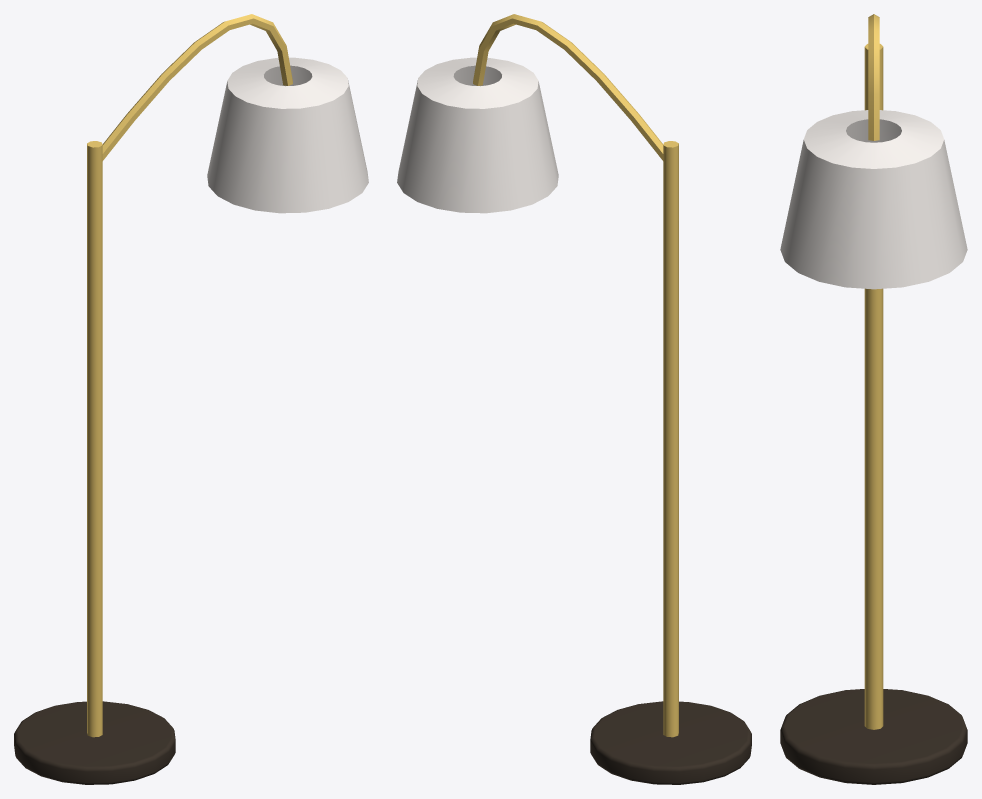
Rendered from floor_lamp_arc.glb.
3 renders of one model, left to right at view 1: azimuth 30°, elevation 25°; view 2: azimuth 150°, elevation 25°; view 3: azimuth 270°, elevation 25°, orthographic. The views are drawn at different scales.
Parts seen in each view (by area): view 1: floor_lamp_arc; view 2: floor_lamp_arc; view 3: floor_lamp_arc.
Part boxes in pixels (bbox=[...]): floor_lamp_arc: bbox=[14, 14, 368, 784]; floor_lamp_arc: bbox=[397, 14, 751, 784]; floor_lamp_arc: bbox=[780, 14, 967, 784].
Bounding box in the file's own units: 0.9485 × 1.9 × 0.4.
